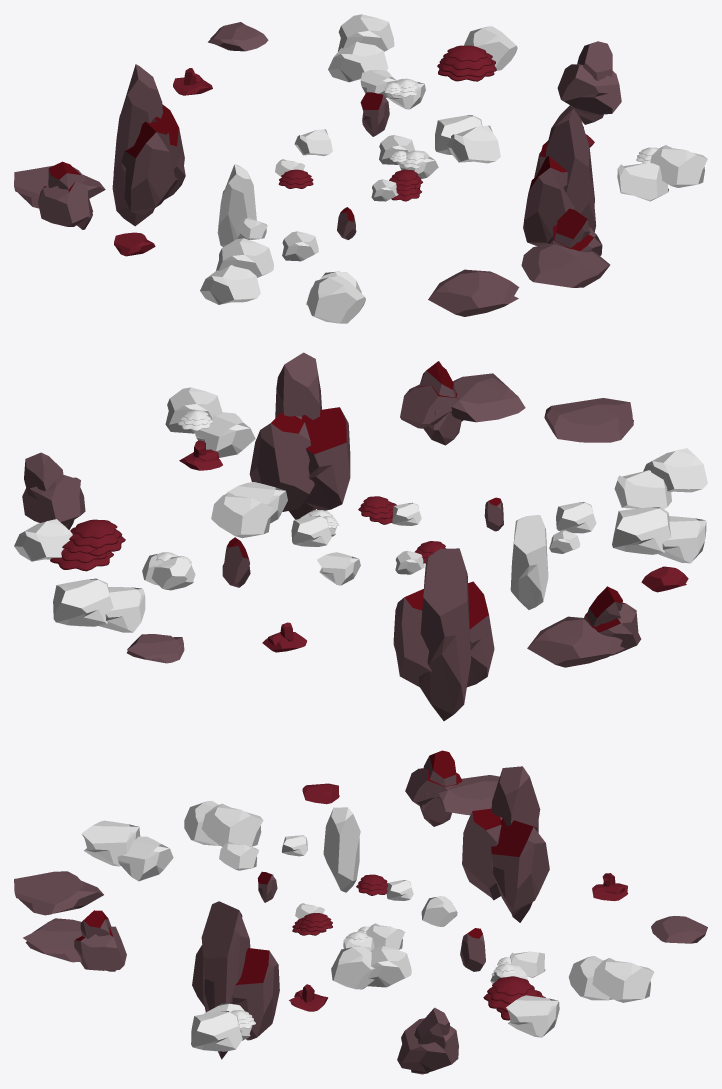
Rendered from ground2-s2.fbx.
3 views of the same model, one above another, from view 1: azimuth 30°, elevation 25°; view 2: azimuth 150°, elevation 25°; view 3: azimuth 270°, elevation 25° (orthographic). The views are drawn at different scales.
Visible parts, largest first — view 1: Cube.033, Cube.066, Cube.153, Cube.072, Cube.012, Cube.008, Cube.131, Cube.128, Cube.134, Cube.089, Cube.130, Cube.087 (+22 smaller); view 2: Cube.033, Cube.066, Cube.153, Cube.074, Cube.014, Cube.128, Cube.072, Cube.129, Cube.133, Cube.008, Cube.012, Cube.088 (+22 smaller); view 3: Cube.033, Cube.066, Cube.153, Cube.012, Cube.128, Cube.074, Cube.129, Cube.008, Cube.133, Cube.089, Cube.131, Cube.072 (+19 smaller).
Boxes of the visible parts, box(x1,y1,x2,y2) form: Cube.033: box(112, 64, 185, 226); Cube.066: box(523, 105, 596, 246); Cube.153: box(428, 269, 519, 316); Cube.072: box(521, 243, 610, 287); Cube.012: box(38, 161, 92, 229); Cube.008: box(557, 64, 621, 114); Cube.131: box(307, 275, 365, 323); Cube.128: box(217, 164, 256, 247); Cube.134: box(200, 265, 260, 304); Cube.089: box(650, 145, 707, 187); Cube.130: box(328, 41, 388, 82); Cube.087: box(447, 125, 500, 163); Cube.033: box(393, 548, 494, 720); Cube.066: box(249, 352, 350, 519); Cube.153: box(544, 398, 633, 442); Cube.074: box(400, 361, 463, 445); Cube.014: box(527, 616, 624, 667); Cube.128: box(510, 515, 548, 609); Cube.072: box(451, 373, 525, 422); Cube.129: box(53, 578, 113, 626); Cube.133: box(612, 507, 671, 554); Cube.008: box(22, 474, 85, 525); Cube.012: box(583, 586, 641, 655); Cube.088: box(211, 492, 273, 538); Cube.033: box(462, 766, 549, 922); Cube.066: box(192, 901, 279, 1059); Cube.153: box(14, 871, 103, 915); Cube.012: box(405, 750, 462, 826); Cube.128: box(323, 807, 360, 892); Cube.074: box(74, 910, 126, 971); Cube.129: box(592, 958, 653, 1002); Cube.008: box(397, 1018, 458, 1072); Cube.133: box(201, 803, 263, 846); Cube.089: box(191, 1011, 242, 1051); Cube.131: box(81, 820, 140, 866); Cube.072: box(23, 918, 82, 962).
Size of the model in its own units: 339 by 91.22 by 364.
